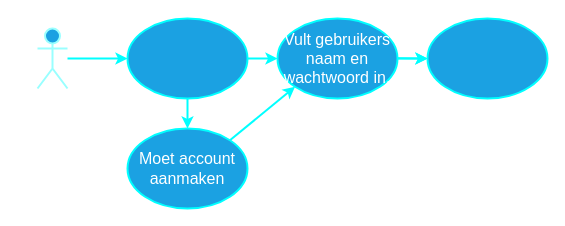
Image size: 565x226. Some labels were removed from this diagram. Each missing label, with the centre of its shape:
De gebruiker kan nu tweeten: pixel 487 58
Gaat inloggen: pixel 187 58
